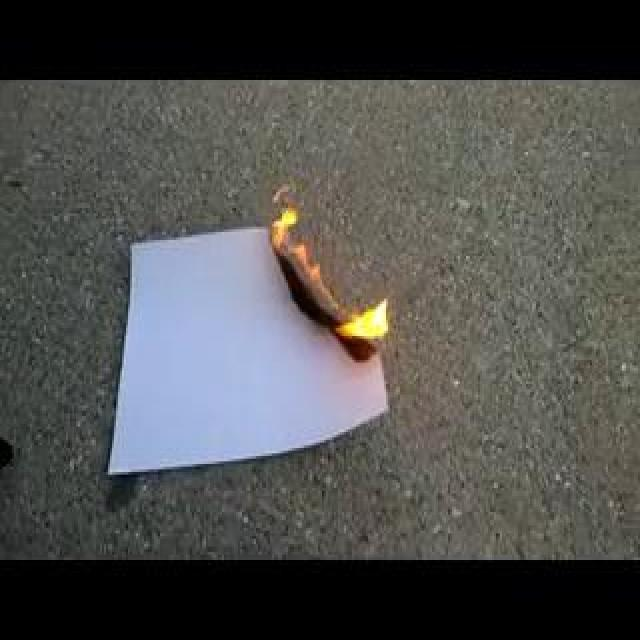Fire: (138, 190, 307, 258)
